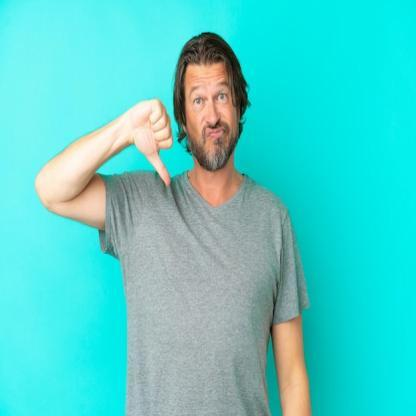thumb_down: (132, 92, 180, 191)
